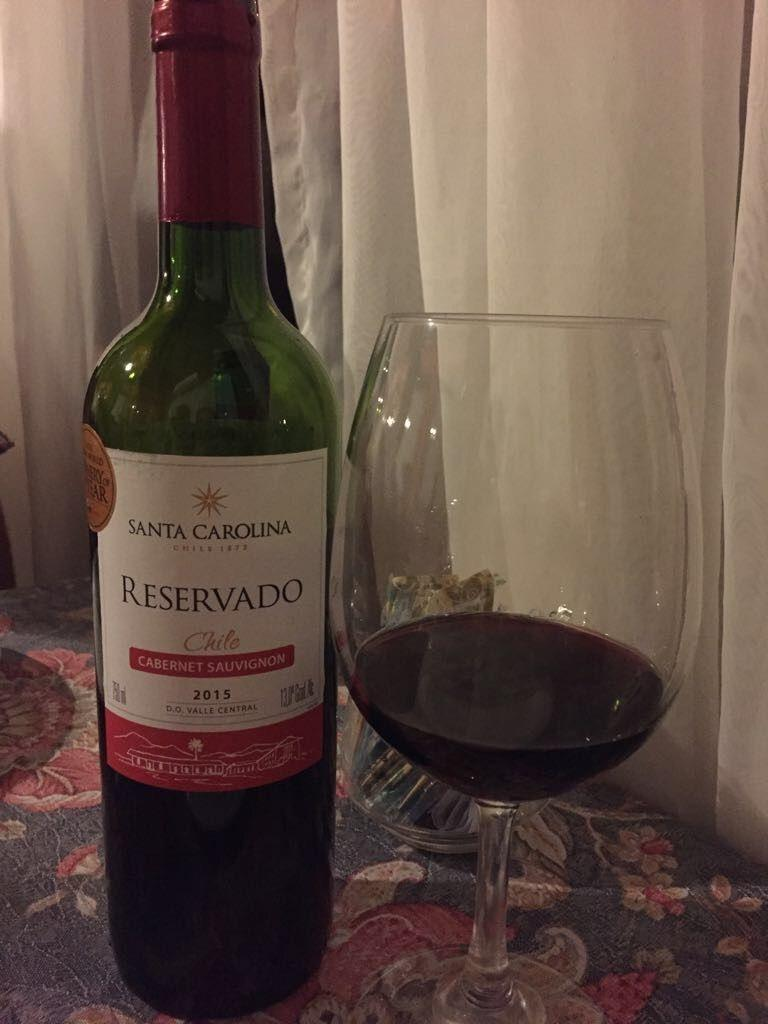bottle-glass: (77, 0, 346, 1024)
glass-wine: (335, 308, 705, 1024)
